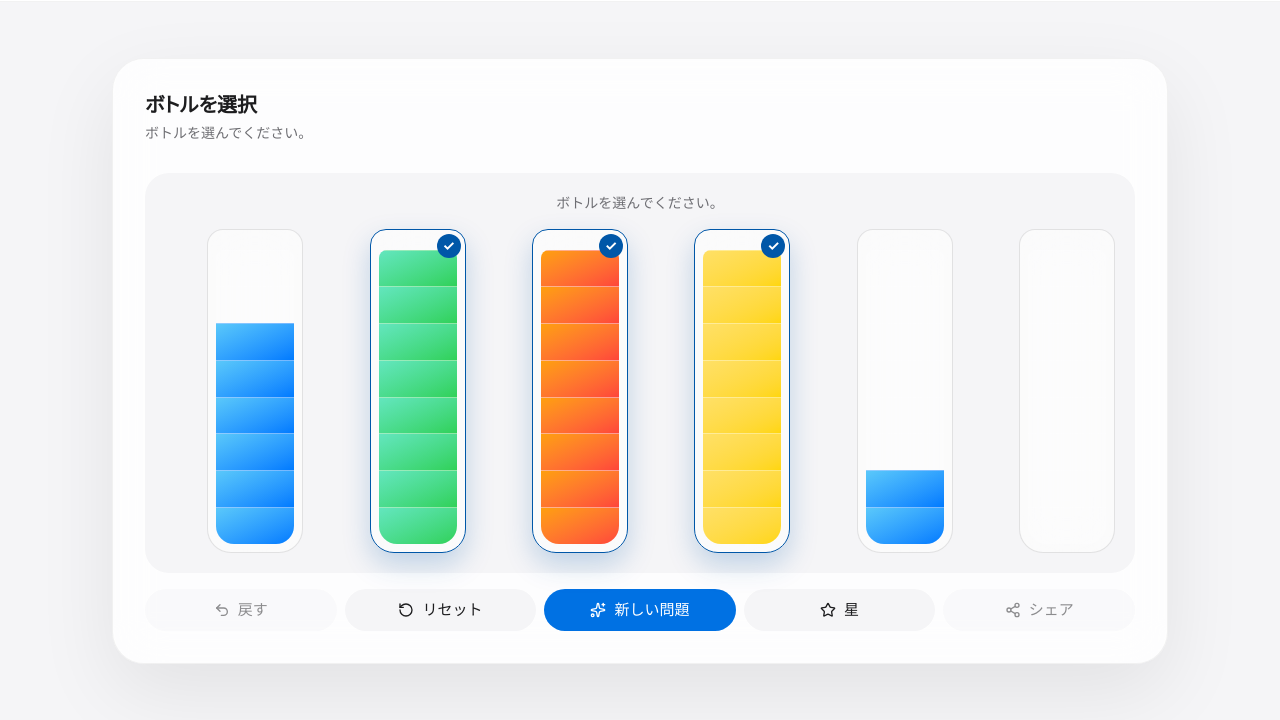
ColorSortPuzzlePage › keeps a solved board and sharing enabled after the result dialog closes
(page scrolled)
Click the button named "ボトル 1" at (255, 391), box left=207, top=229, right=303, bottom=553
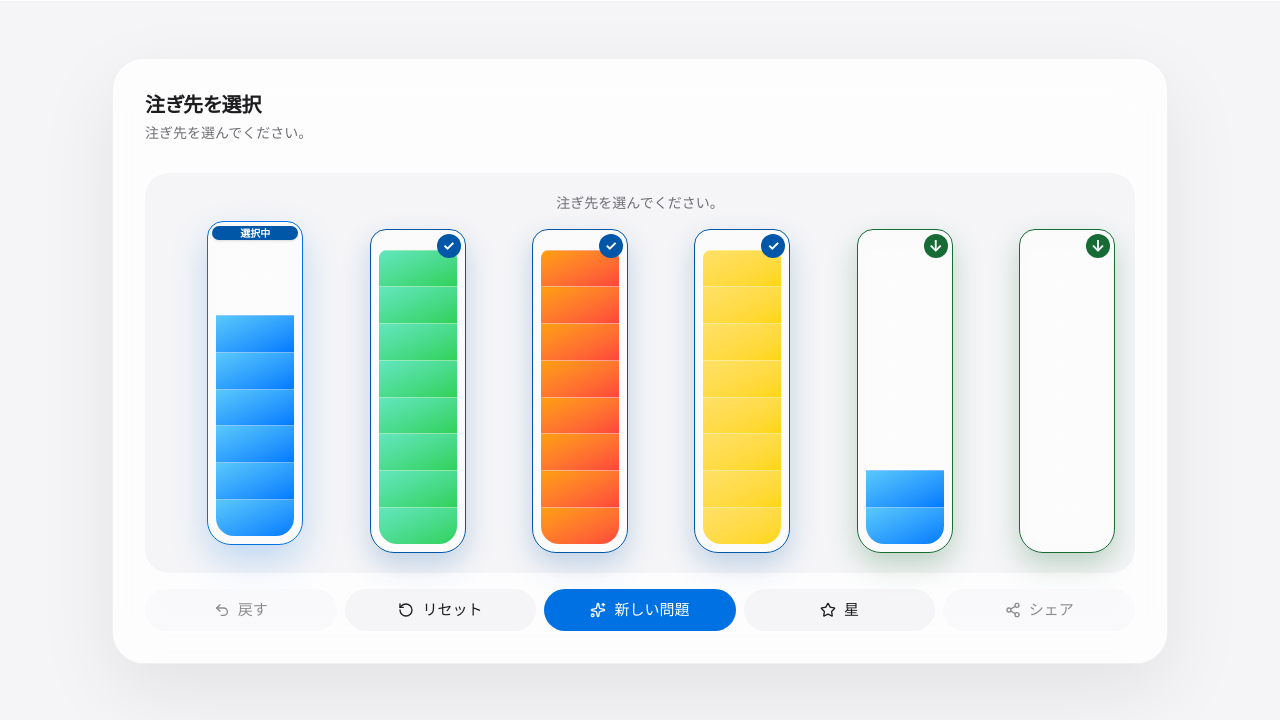
Click the button named "ボトル 5" at (905, 391), box left=857, top=229, right=953, bottom=553
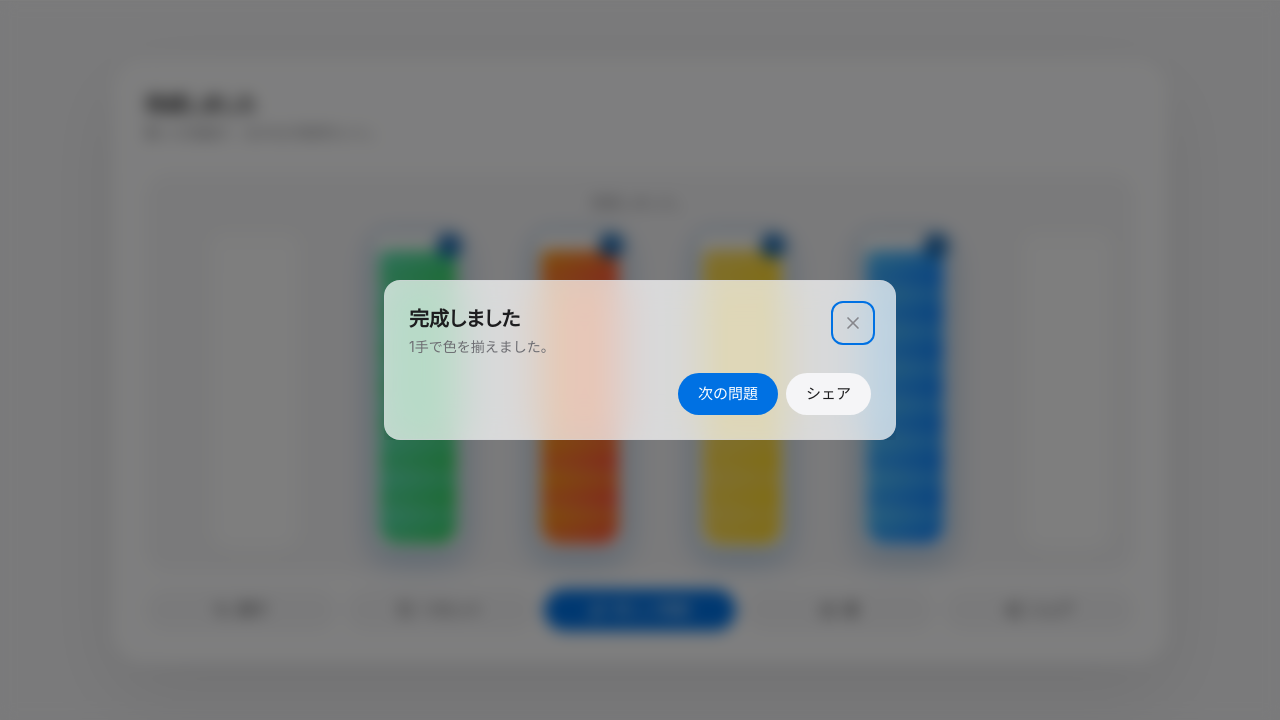
Click the button named "Close dialog" at (853, 323), box left=835, top=305, right=871, bottom=341
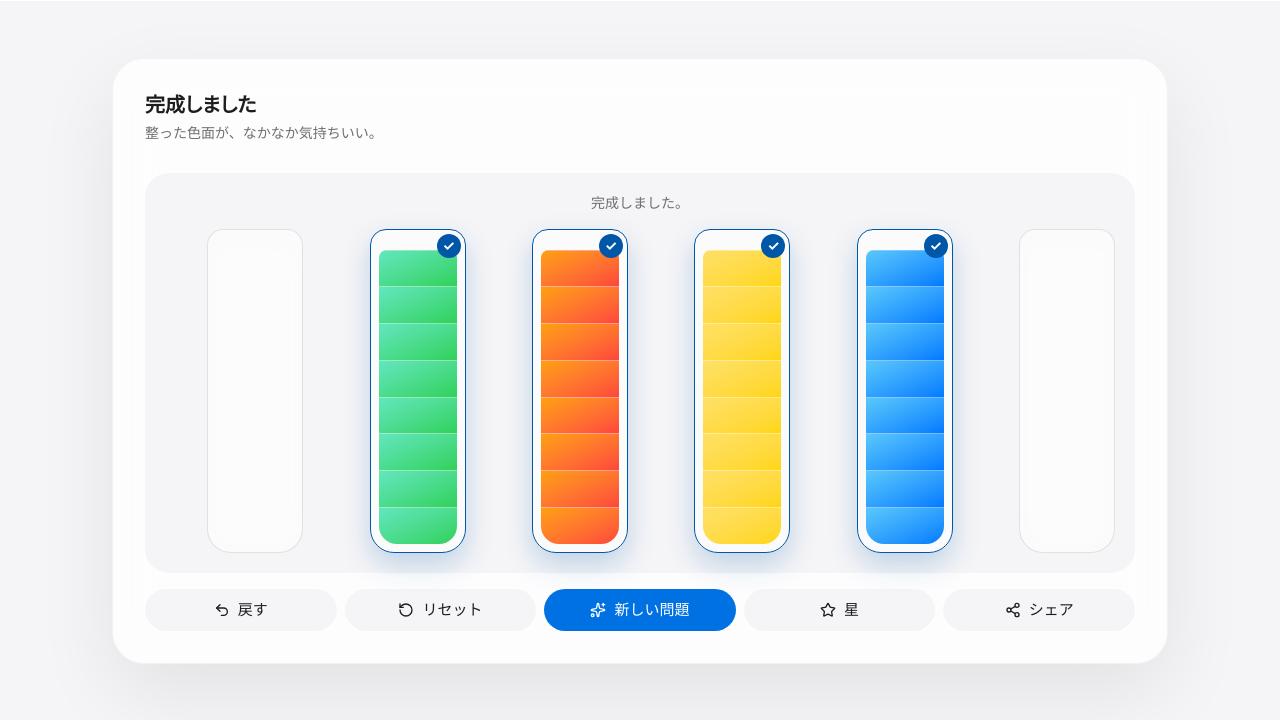
expect the 5th button named "シェア" is enabled: met, box left=943, top=589, right=1135, bottom=631
expect the button named "ボトル 6" is disabled: met, box left=1019, top=229, right=1115, bottom=553
expect the dialog is gone: met
